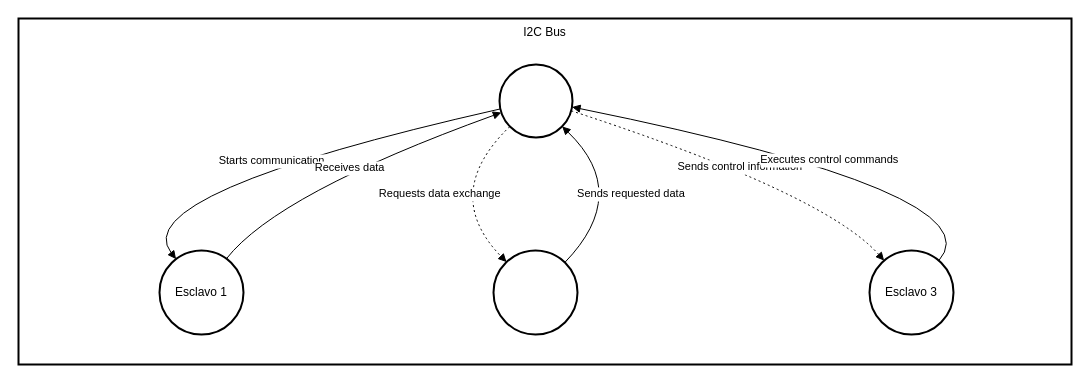
Image size: 1089x382. Some labels were removed from this diagram. The box of each missing label's shape, as (x1, y1, x2, y2) in pixels:
Esclavo 2: (492, 249, 578, 335)
Maestro: (498, 63, 573, 138)
